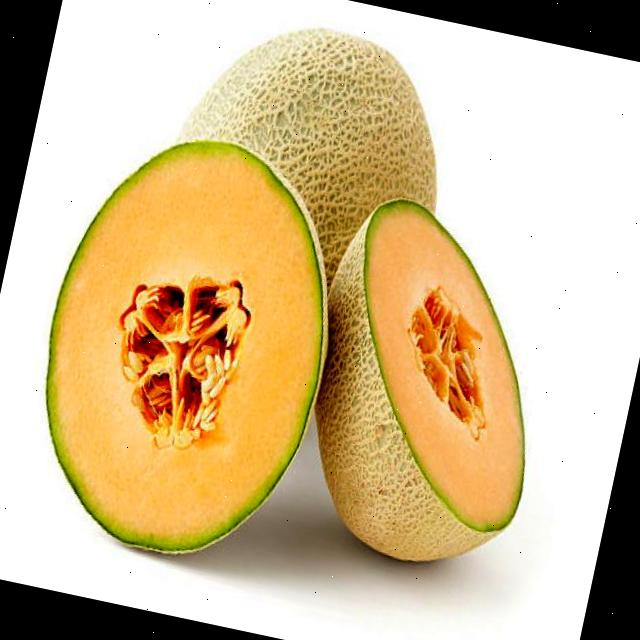Hami Melon: (9, 112, 367, 580), (276, 187, 576, 582), (154, 4, 464, 306)
